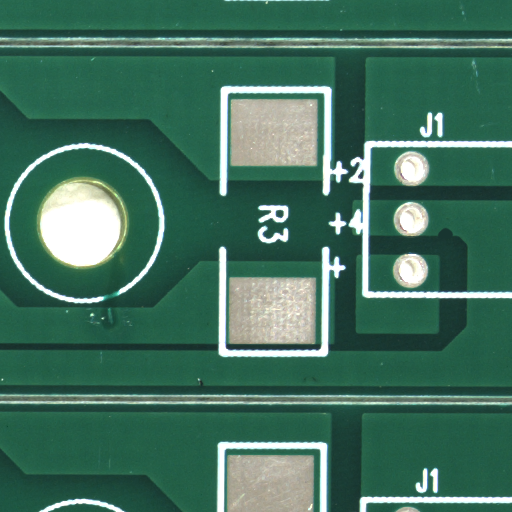Mouse_bite: (445, 232, 458, 243)
